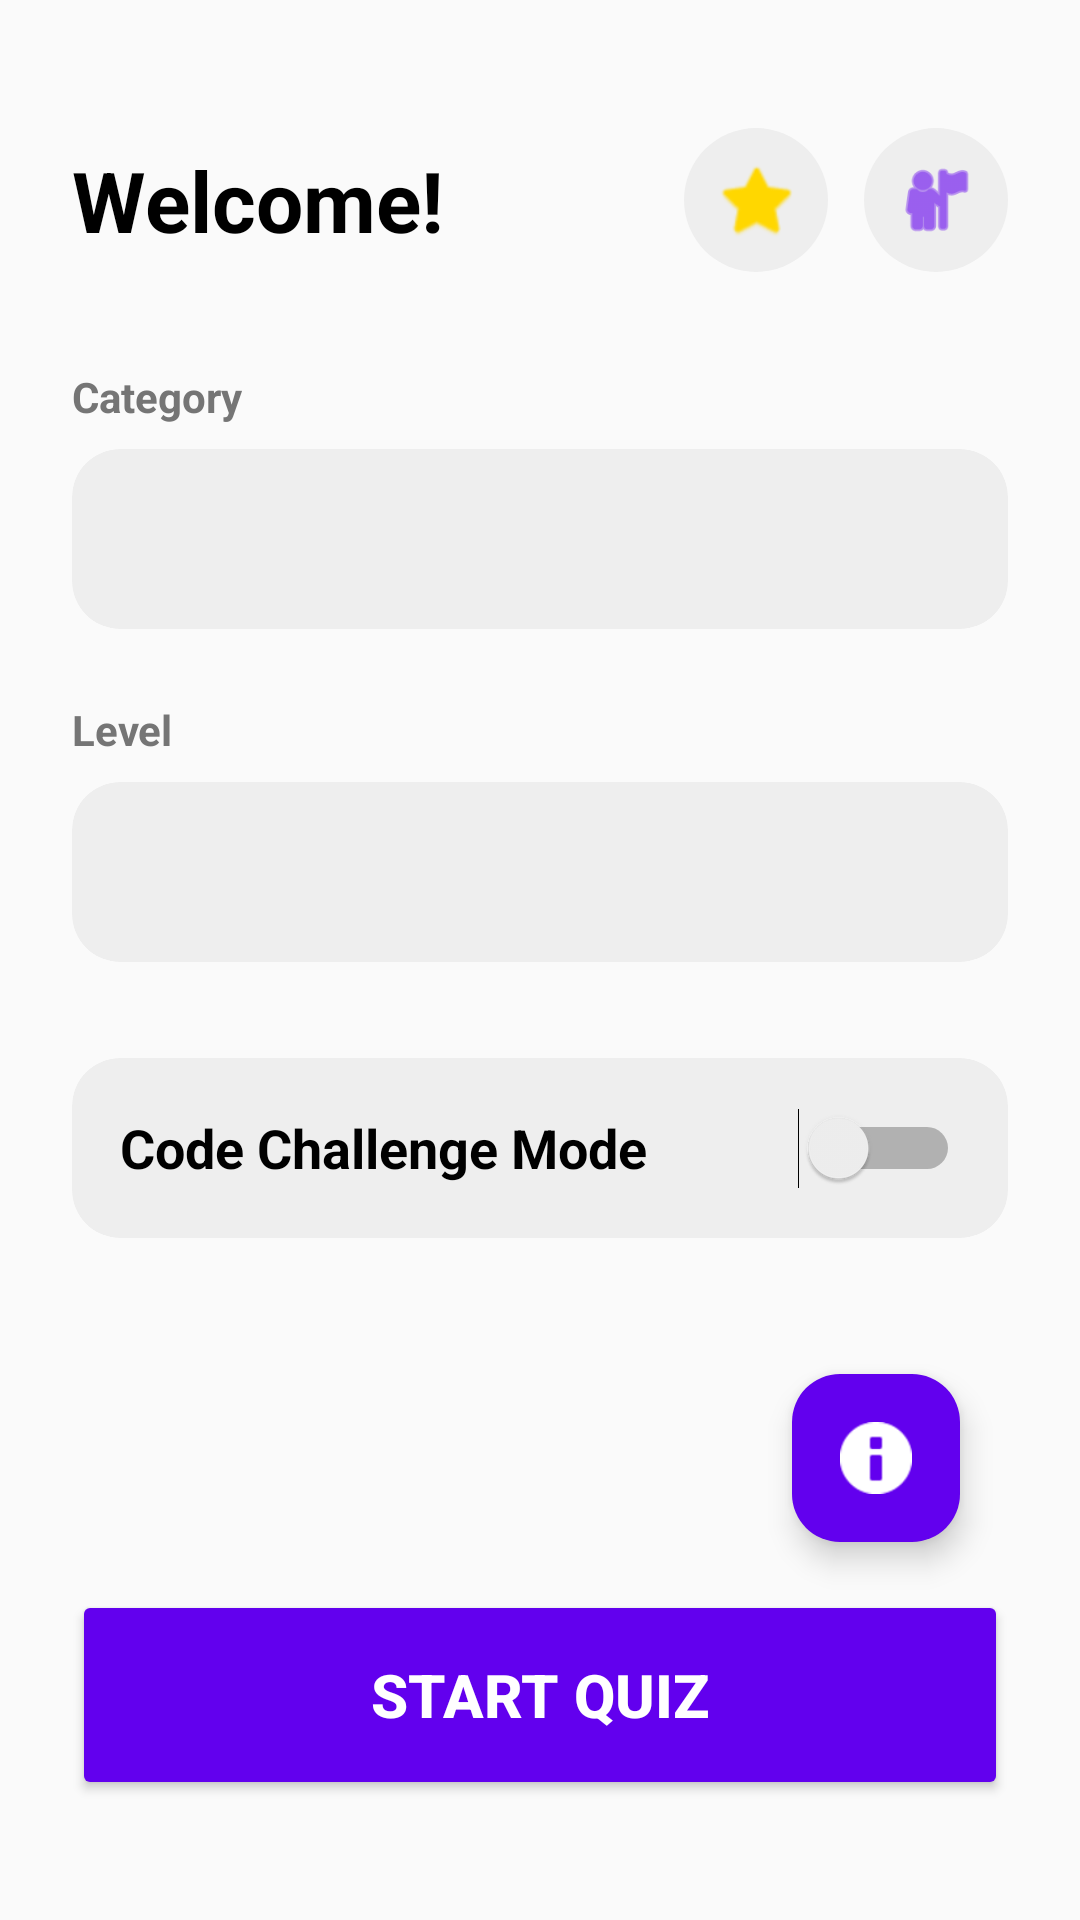

Where to tap for icons on this 1080×1920 app screen, as [x,y]:
info: [876,1458]
star on: [756,201]
